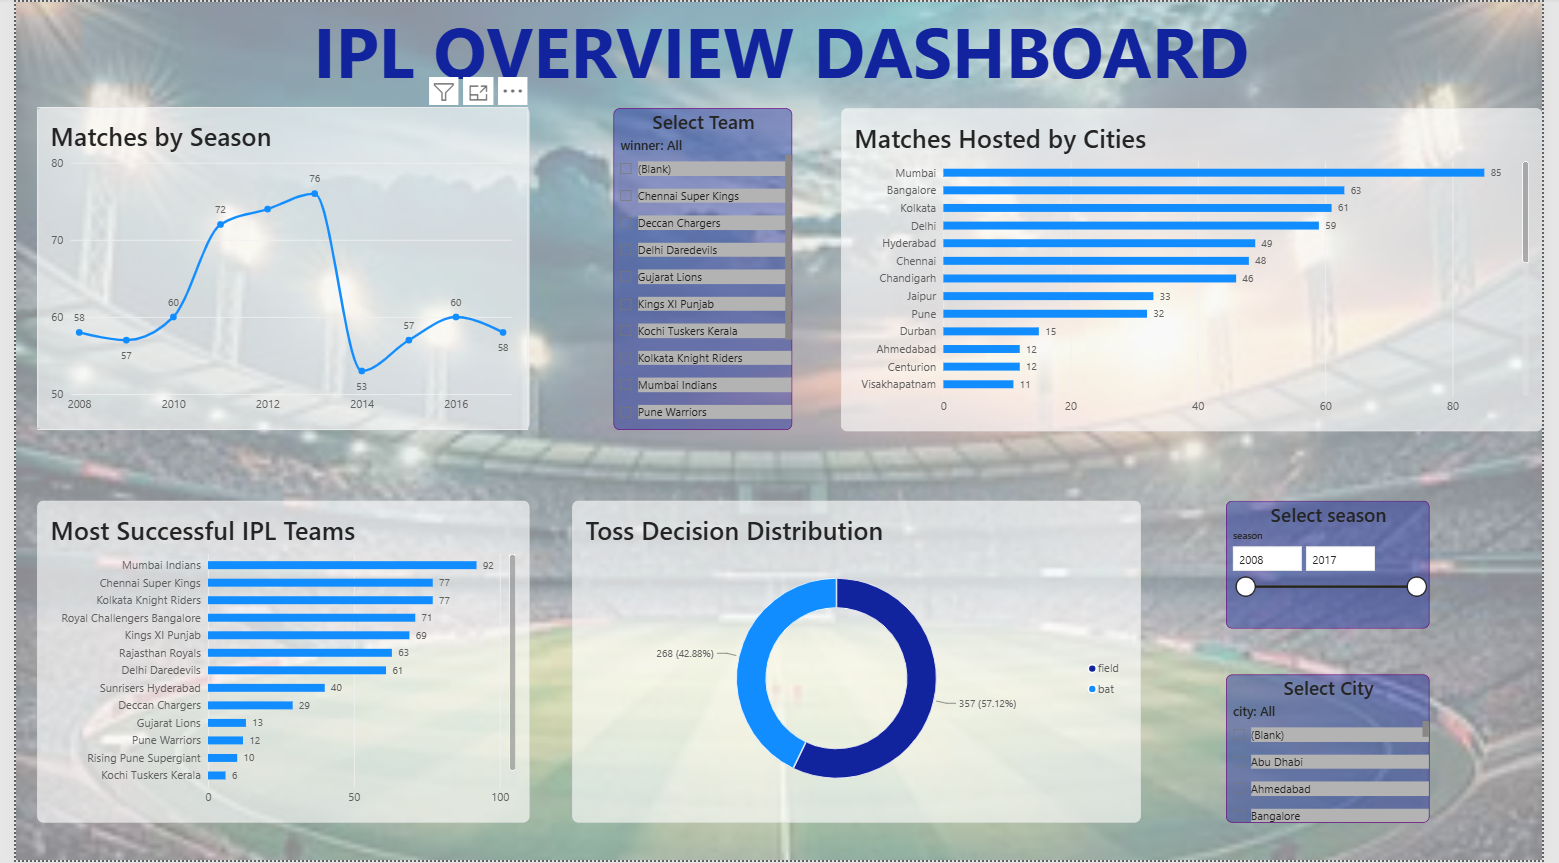

The page's visual inventory and layout, read from the dashboard file:
{"tool":"powerbi","page":{"name":"overview","canvas":[1920,1080],"ordinal":2},"visuals":[{"type":"textbox","box":[146.5,0,1632.6,137.8],"z":0},{"type":"lineChart","title":"Matches by Season","fields":{"Category":["matches.season"],"Y":["CountNonNull(matches.id)"]},"box":[26.2,132.6,619.2,406.4],"z":1000},{"type":"clusteredBarChart","title":"Most Successful IPL Teams","fields":{"Category":["matches.winner"],"Y":["CountNonNull(matches.winner)"]},"box":[26.2,627.9,619.2,404.7],"z":2000},{"type":"barChart","title":"Matches Hosted by Cities","fields":{"Category":["matches.city"],"Y":["CountNonNull(matches.id)"]},"box":[1037.8,134.3,882.6,406.4],"z":3000},{"type":"donutChart","title":"Toss Decision Distribution","fields":{"Category":["matches.toss_decision"],"Y":["CountNonNull(matches.id)"]},"box":[699.4,627.9,715.1,404.7],"z":4000},{"type":"slicer","title":"Select season","fields":{"Values":["matches.season"]},"box":[1522.7,627.9,256.4,160.5],"z":5000},{"type":"slicer","title":"Select Team","fields":{"Values":["matches.winner"]},"box":[751.7,134.3,225,404.7],"z":6000},{"type":"slicer","title":"Select City","fields":{"Values":["matches.city"]},"box":[1522.7,845.9,256.4,186.6],"z":7000}]}

Visuals, with their boxes in screenshot pixels (x1, y1, x2, y2), scaled from the page's 1920x1080 canvas onto the 1559x863 screenshot:
textbox: left=119, top=0, right=1445, bottom=110
"Matches by Season" lineChart: left=21, top=106, right=524, bottom=431
"Most Successful IPL Teams" clusteredBarChart: left=21, top=502, right=524, bottom=825
"Matches Hosted by Cities" barChart: left=843, top=107, right=1558, bottom=432
"Toss Decision Distribution" donutChart: left=568, top=502, right=1149, bottom=825
"Select season" slicer: left=1236, top=502, right=1445, bottom=630
"Select Team" slicer: left=610, top=107, right=793, bottom=431
"Select City" slicer: left=1236, top=676, right=1445, bottom=825
